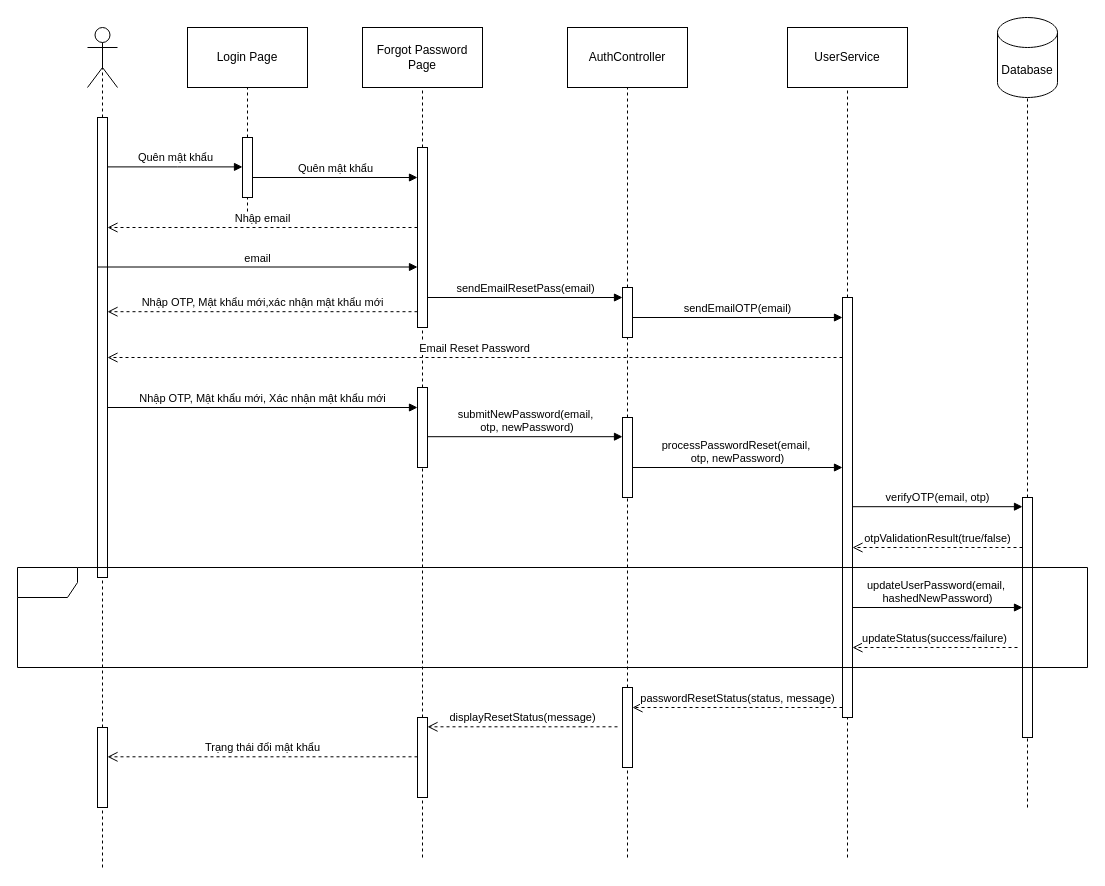
The diagram is 1105 pixels wide and 886 high, and some of its shapes have lost their labels. Each missing label, with the centre of its shape:
"OTP hợp lệ" belongs at point 552,617.
"User" belongs at point 102,57.
